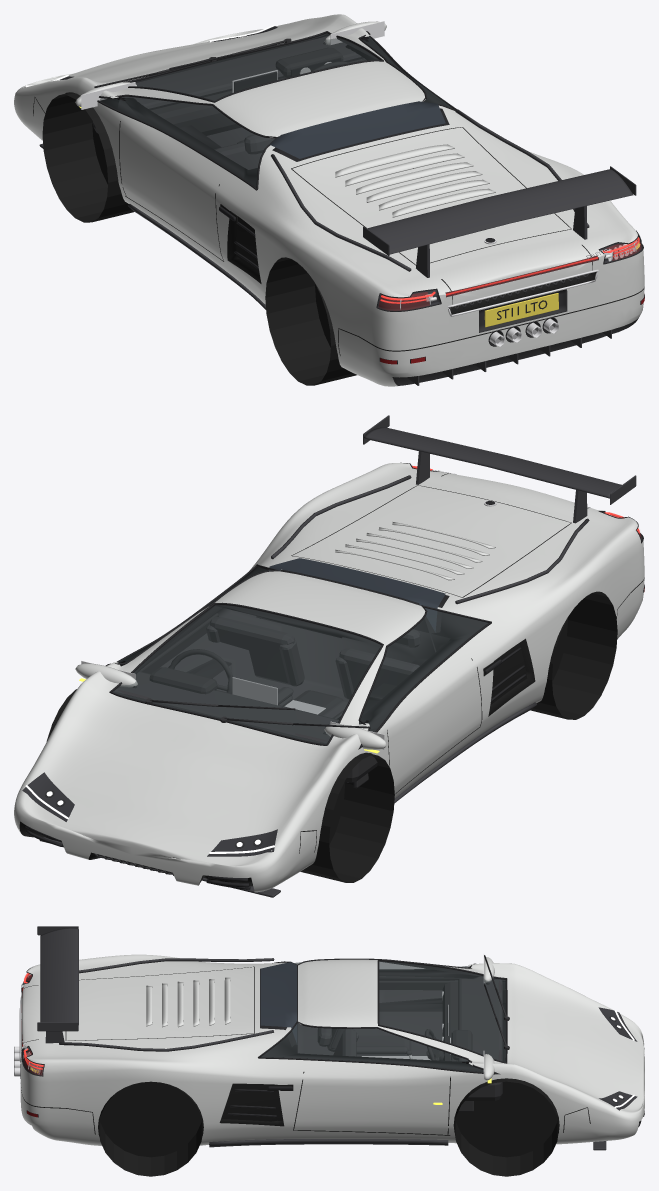
The model's file is stiletto.glb.
3 views of the same model, one above another, from view 1: azimuth 30°, elevation 25°; view 2: azimuth 150°, elevation 25°; view 3: azimuth 270°, elevation 25° (orthographic). The views are drawn at different scales.
Visible parts, largest first — view 1: stiletto; view 2: stiletto; view 3: stiletto.
Boxes of the visible parts, x1,y1,x2,y2 form: stiletto: (14, 14, 644, 386); stiletto: (14, 415, 644, 897); stiletto: (14, 926, 644, 1176).
Size of the model in its own units: 2.19 by 1.39 by 4.82.
